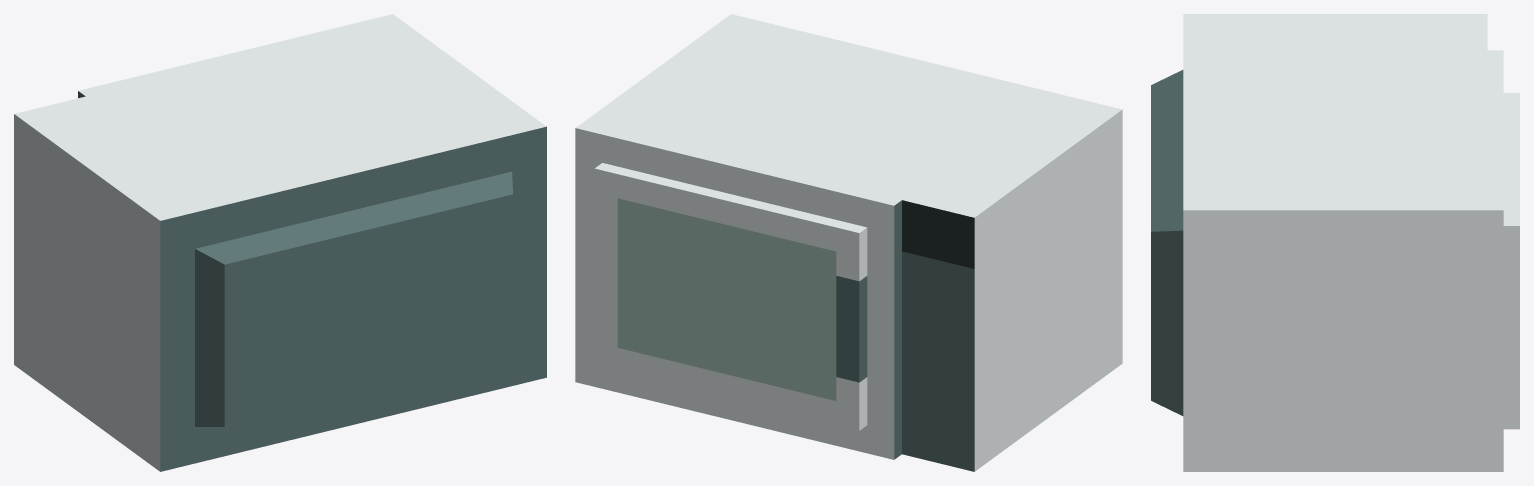
The model's file is kitchenMicrowave.fbx.
3 views of the same model, side by side, from view 1: azimuth 30°, elevation 25°; view 2: azimuth 150°, elevation 25°; view 3: azimuth 270°, elevation 25° (orthographic). The views are drawn at different scales.
Parts seen in each view (by area): view 1: kitchenMicrowave; view 2: kitchenMicrowave, Group 333; view 3: kitchenMicrowave, Group 333.
Boxes of the visible parts, bbox=[...] form: kitchenMicrowave: bbox=[14, 14, 546, 471]; kitchenMicrowave: bbox=[575, 14, 1122, 471]; Group 333: bbox=[594, 163, 867, 430]; kitchenMicrowave: bbox=[1151, 14, 1503, 471]; Group 333: bbox=[1503, 93, 1519, 429].
Bounding box in the file's own units: 2.9 × 1.8 × 2.3.
